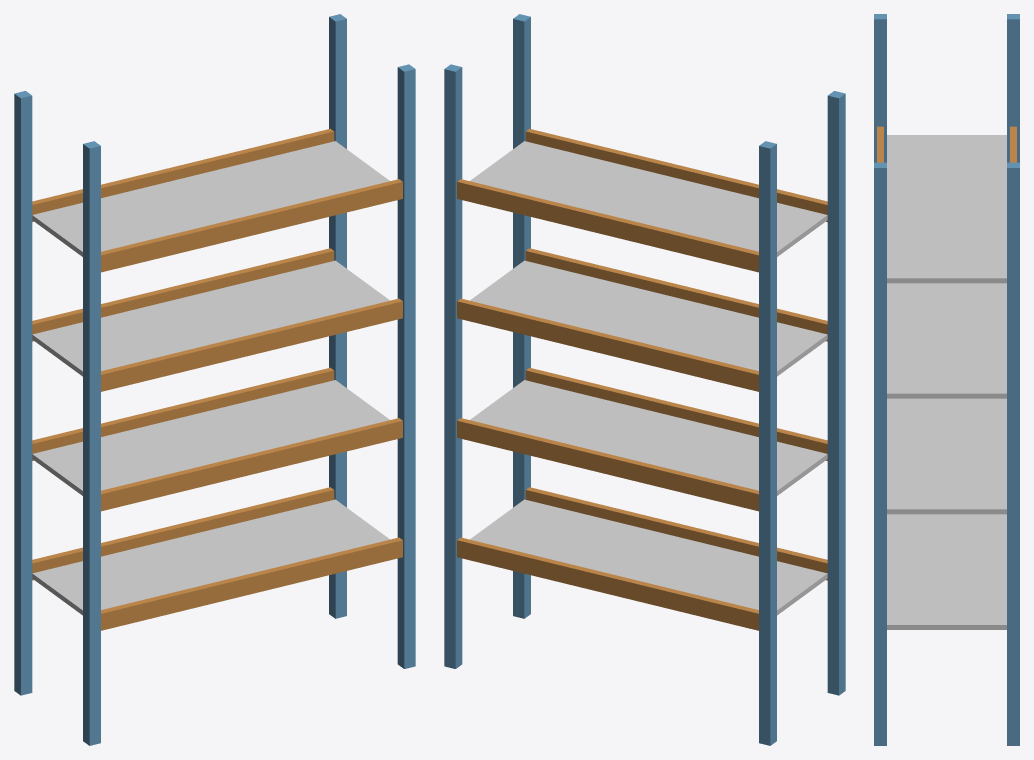
Rendered from shelf-beam-medium.glb.
3 views of the same model, side by side, from view 1: azimuth 30°, elevation 25°; view 2: azimuth 150°, elevation 25°; view 3: azimuth 270°, elevation 25° (orthographic). The views are drawn at different scales.
Visible parts, largest first — view 1: deck_4, deck_3, deck_2, deck_1, upright_2, upright_1, upright_0, beam_front_4, beam_front_1, beam_front_2, beam_front_3, upright_3 (+4 smaller); view 2: deck_4, deck_3, deck_2, deck_1, upright_0, upright_3, upright_2, beam_back_4, beam_back_1, beam_back_2, beam_back_3, upright_1 (+4 smaller); view 3: deck_4, deck_2, deck_1, deck_3, upright_1, upright_3, upright_0, upright_2.
Part boxes in pixels (x1,y1,x2,y2): deck_4: [32, 141, 389, 256]; deck_3: [32, 260, 389, 376]; deck_2: [32, 380, 389, 495]; deck_1: [32, 499, 389, 615]; upright_2: [14, 91, 32, 695]; upright_1: [397, 64, 415, 668]; upright_0: [83, 141, 100, 745]; beam_front_4: [101, 179, 402, 272]; beam_front_1: [101, 537, 402, 630]; beam_front_2: [101, 418, 402, 511]; beam_front_3: [101, 298, 402, 391]; upright_3: [329, 14, 346, 618]; deck_4: [470, 141, 827, 256]; deck_3: [470, 260, 827, 376]; deck_2: [470, 380, 827, 495]; deck_1: [470, 499, 827, 615]; upright_0: [827, 91, 845, 695]; upright_3: [444, 64, 462, 668]; upright_2: [759, 141, 776, 745]; beam_back_4: [457, 179, 758, 272]; beam_back_1: [457, 537, 758, 630]; beam_back_2: [457, 418, 758, 511]; beam_back_3: [457, 298, 758, 391]; upright_1: [513, 14, 530, 618]; deck_4: [887, 135, 1006, 283]; deck_2: [887, 398, 1006, 514]; deck_1: [887, 514, 1006, 629]; deck_3: [887, 283, 1006, 398]; upright_1: [874, 162, 886, 745]; upright_3: [1007, 162, 1019, 745]; upright_0: [874, 14, 886, 162]; upright_2: [1007, 14, 1019, 162].
Bounding box in the file's own units: 2000 × 3500 × 800.
